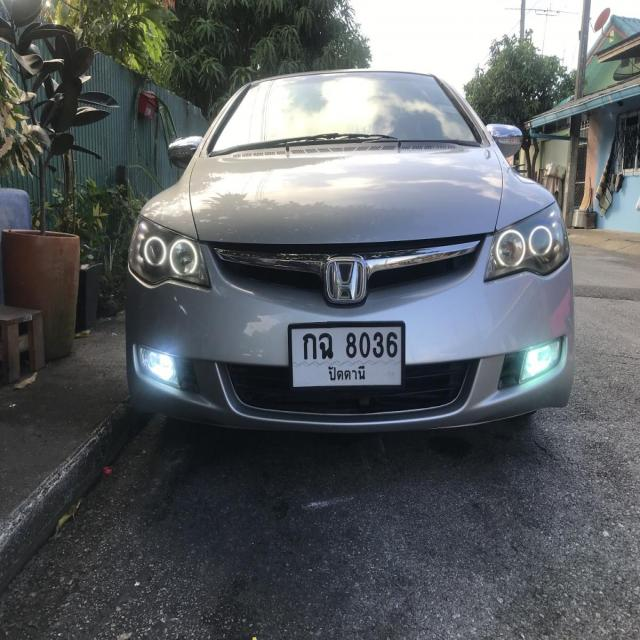PTN: (328, 365, 366, 382)
